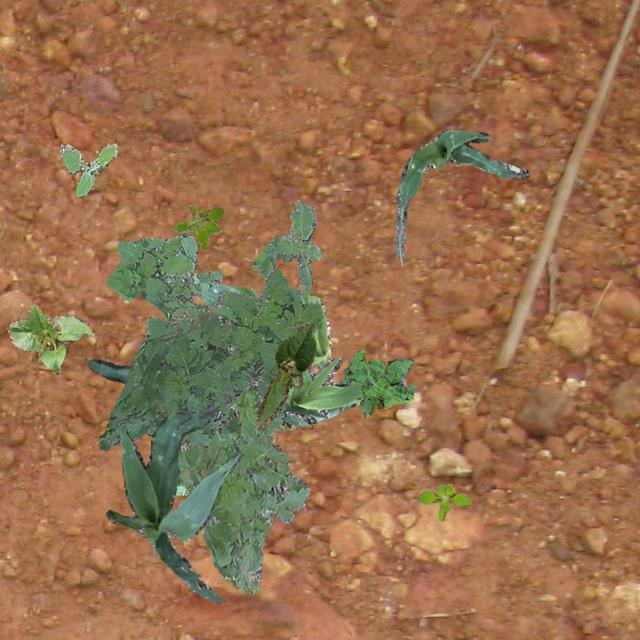crop: (104, 402, 240, 602), (394, 128, 528, 260), (196, 282, 330, 370), (254, 321, 316, 428), (278, 356, 362, 429), (6, 304, 92, 372), (86, 358, 130, 384)
weed: (98, 268, 322, 450), (176, 304, 310, 592), (106, 232, 222, 494), (252, 200, 320, 294), (338, 348, 414, 416), (60, 142, 116, 196), (172, 204, 222, 250), (418, 482, 470, 520), (146, 428, 156, 436)
